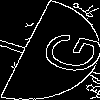G: (25, 25, 100, 78)
